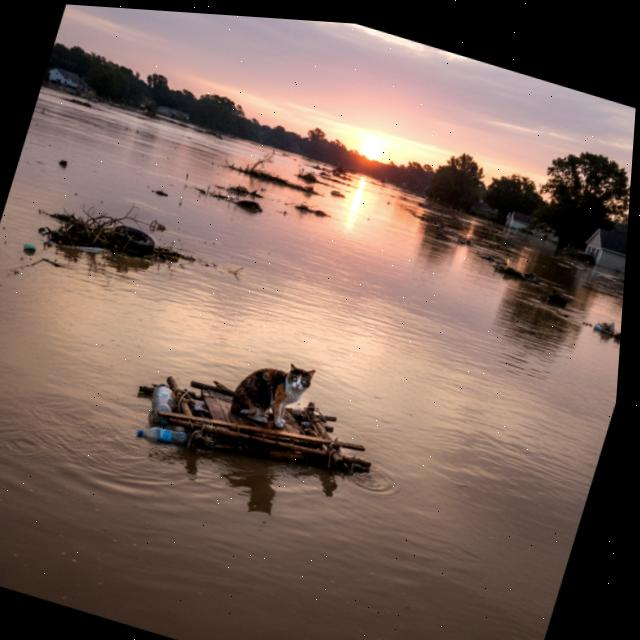cat: (208, 336, 327, 448)
